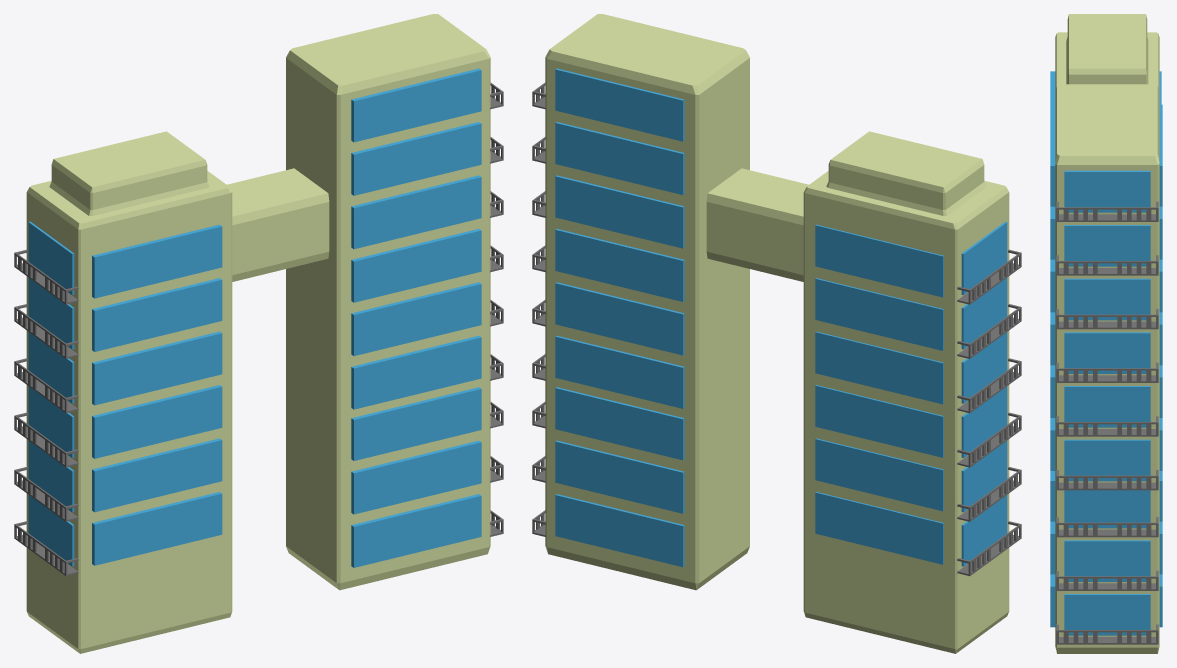
The model's file is Spilt_Building.fbx.
3 views of the same model, side by side, from view 1: azimuth 30°, elevation 25°; view 2: azimuth 150°, elevation 25°; view 3: azimuth 270°, elevation 25° (orthographic).
Visible parts, largest first — view 1: Cube.001, Cube.007, Cube, Cube.004, Cube.002, Cube.009; view 2: Cube.001, Cube, Cube.013, Cube.005, Cube.002, Cube.009; view 3: Cube.009, Cube.001, Cube, Cube.007, Cube.011, Cube.013, Cube.004.
Part boxes in pixels (<box>): Cube.001: <box>227,14,490,590</box>; Cube.007: <box>351,68,481,567</box>; Cube: <box>26,131,232,653</box>; Cube.004: <box>92,224,222,565</box>; Cube.002: <box>14,221,78,576</box>; Cube.009: <box>490,82,503,536</box>; Cube.001: <box>545,14,808,590</box>; Cube: <box>803,131,1009,653</box>; Cube.013: <box>555,68,684,567</box>; Cube.005: <box>815,224,943,564</box>; Cube.002: <box>957,221,1021,576</box>; Cube.009: <box>532,82,545,536</box>; Cube.009: <box>1056,170,1158,644</box>; Cube.001: <box>1055,84,1159,653</box>; Cube: <box>1055,14,1159,90</box>; Cube.007: <box>1050,104,1055,627</box>; Cube.011: <box>1064,490,1150,528</box>; Cube.013: <box>1159,104,1162,627</box>; Cube.004: <box>1050,71,1055,104</box>.
Bounding box in the file's own units: 956 × 1052 × 215.
